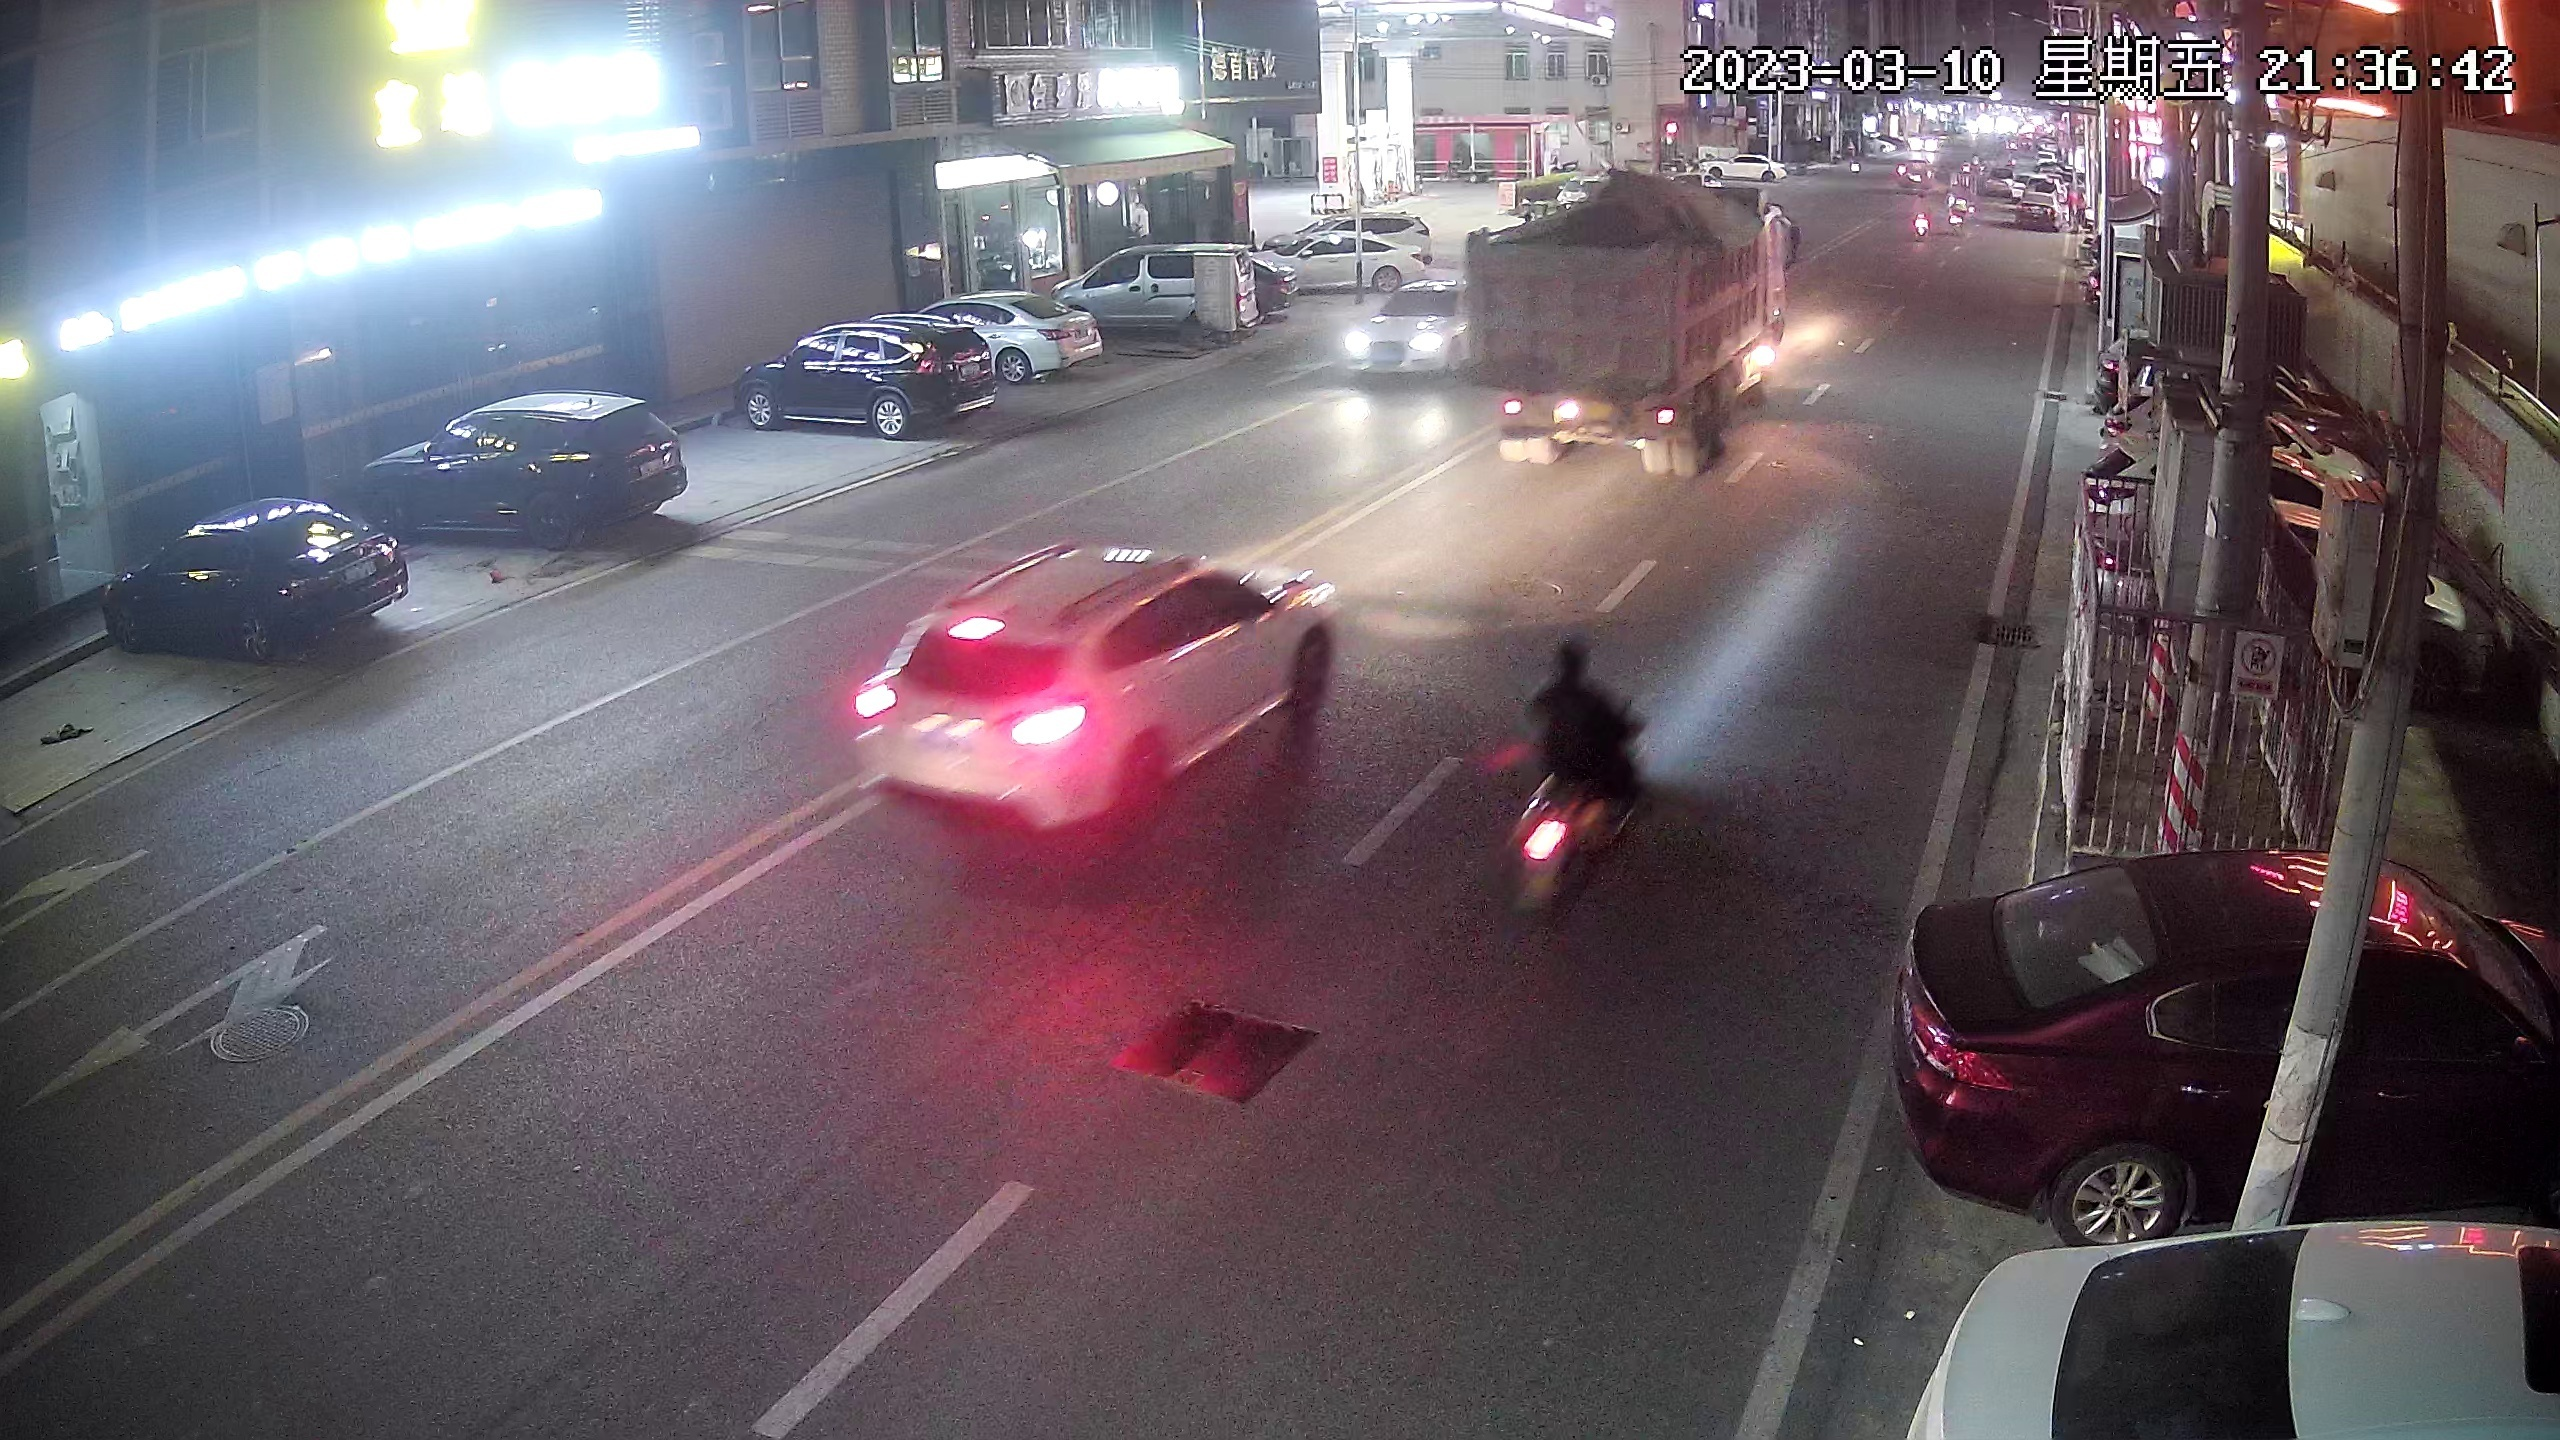motorcycle: (1517, 624, 1647, 925)
sedan: (1890, 833, 2558, 1222), (1925, 1220, 2560, 1440), (111, 492, 411, 665), (2087, 441, 2384, 545), (2108, 359, 2347, 462), (941, 285, 1097, 387), (1280, 237, 1428, 287), (2013, 169, 2062, 232)
suv: (876, 540, 1354, 855), (362, 394, 693, 536), (745, 325, 993, 434)
truck: (1473, 158, 1793, 480)
van: (1073, 250, 1240, 334)
